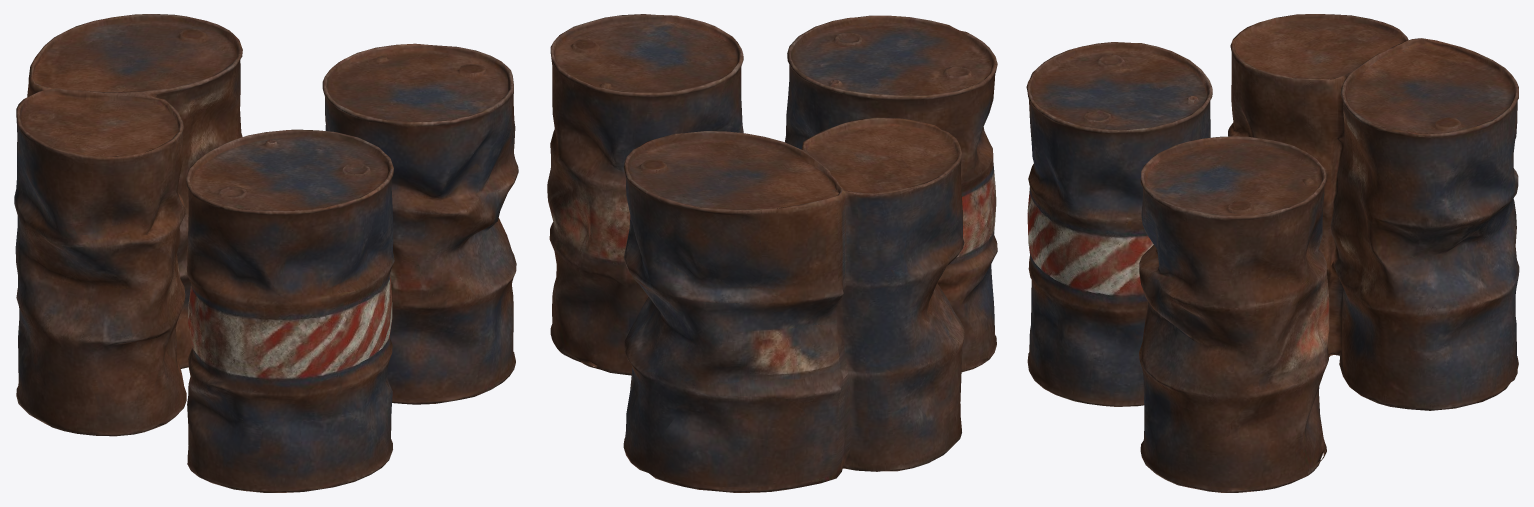
File: prop_barrel.glb
3 views of the same model, side by side, from view 1: azimuth 30°, elevation 25°; view 2: azimuth 150°, elevation 25°; view 3: azimuth 270°, elevation 25° (orthographic). The views are drawn at different scales.
Size of the model in its own units: 0.9889 by 0.6202 by 0.9981.
1 material, 1 textured.
